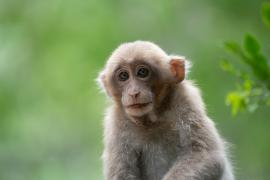monkey: (91, 35, 237, 180)
